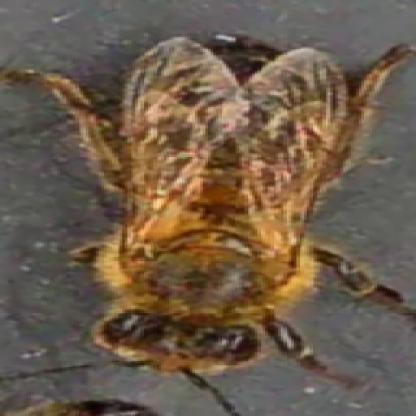bee: (91, 31, 353, 354)
